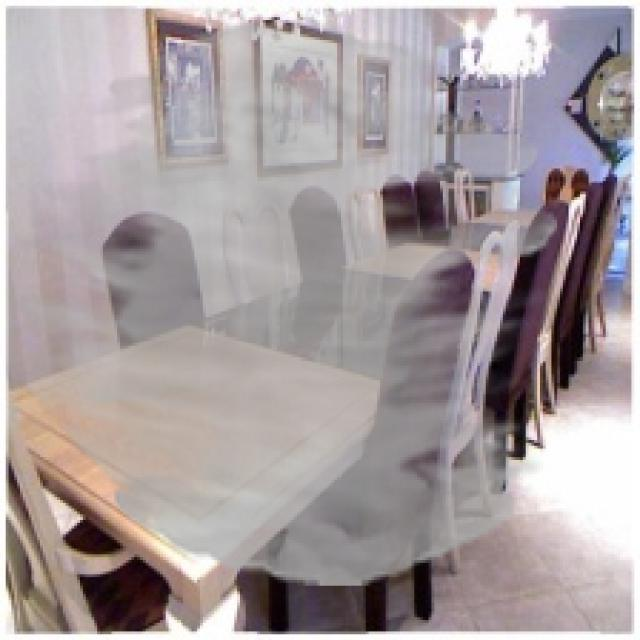smoke: (14, 20, 557, 586)
